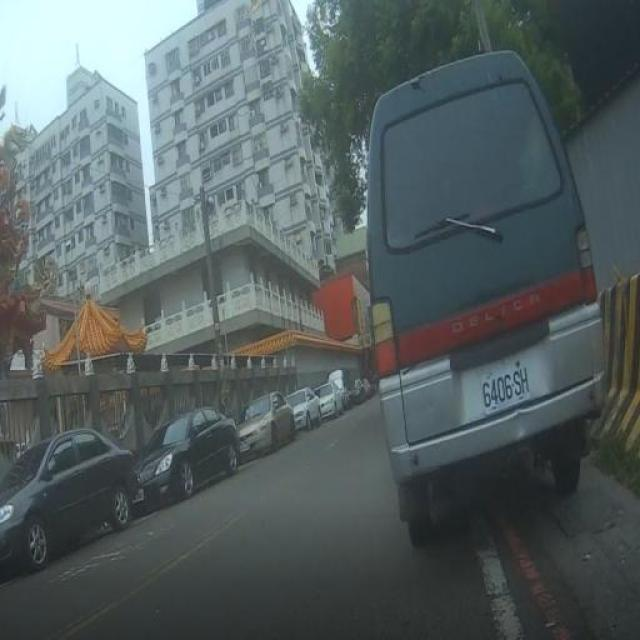Legalparking: (0, 360, 374, 602)
illegalparking: (326, 49, 630, 558)
